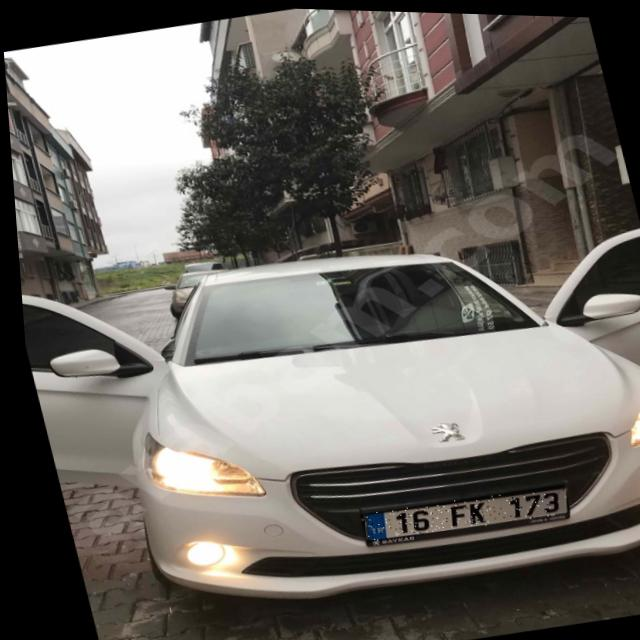license_plate: (349, 475, 565, 545)
